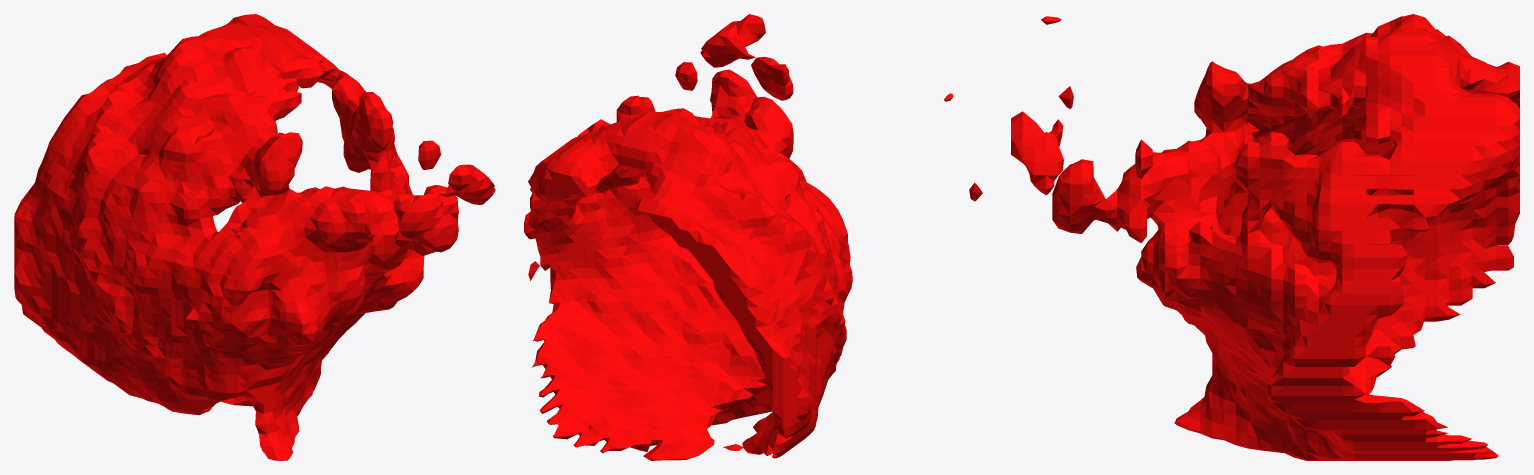
File: B939XXXX-1_valve_1.obj
3 renders of one model, left to right at view 1: azimuth 30°, elevation 25°; view 2: azimuth 150°, elevation 25°; view 3: azimuth 270°, elevation 25°, orthographic. The views are drawn at different scales.
Parts seen in each view (by area): view 1: 1_valve; view 2: 1_valve; view 3: 1_valve.
Part boxes in pixels (<box>): 1_valve: <box>14,14,495,460</box>; 1_valve: <box>524,14,982,460</box>; 1_valve: <box>1011,14,1519,460</box>.
Size of the model in its own units: 76.95 by 76.97 by 85.95.
